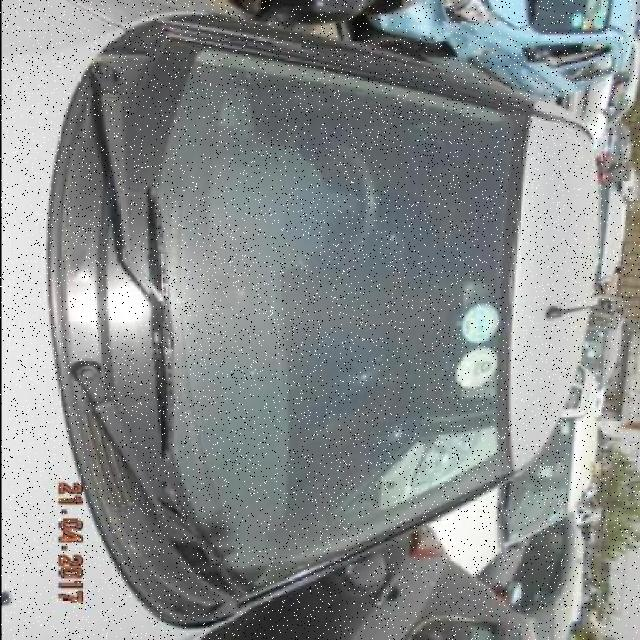damage: (373, 215, 413, 250), (352, 362, 376, 385), (380, 422, 403, 445)
